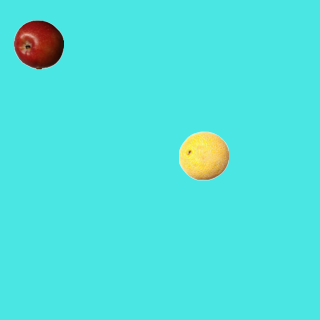Apple Braeburn: (13, 19, 63, 69)
Cantaloupe 1: (178, 130, 228, 180)
